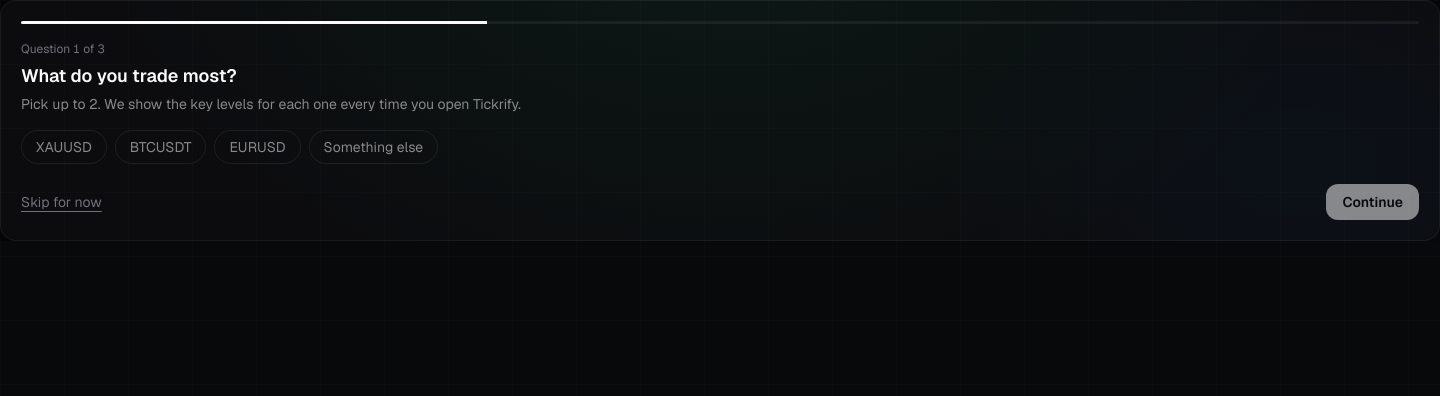
Test: quiz de conta nova › falha ao salvar: avisa, fica na pergunta e nao marca como feito
Click the button "XAUUSD".
click(64, 147)  # box [21,130,107,164]
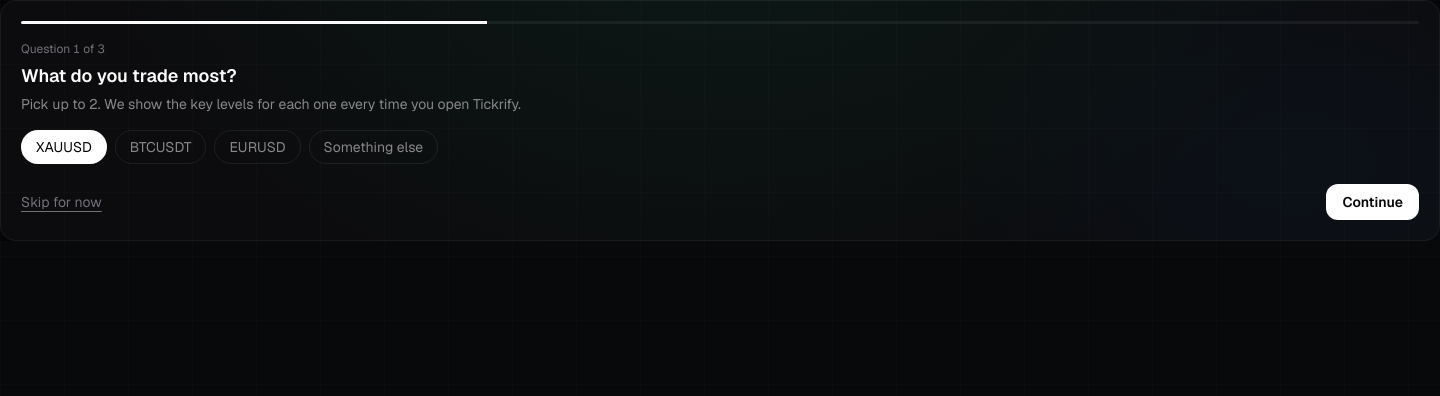
Click the button "Continue".
click(1373, 202)  # box [1326,184,1419,220]
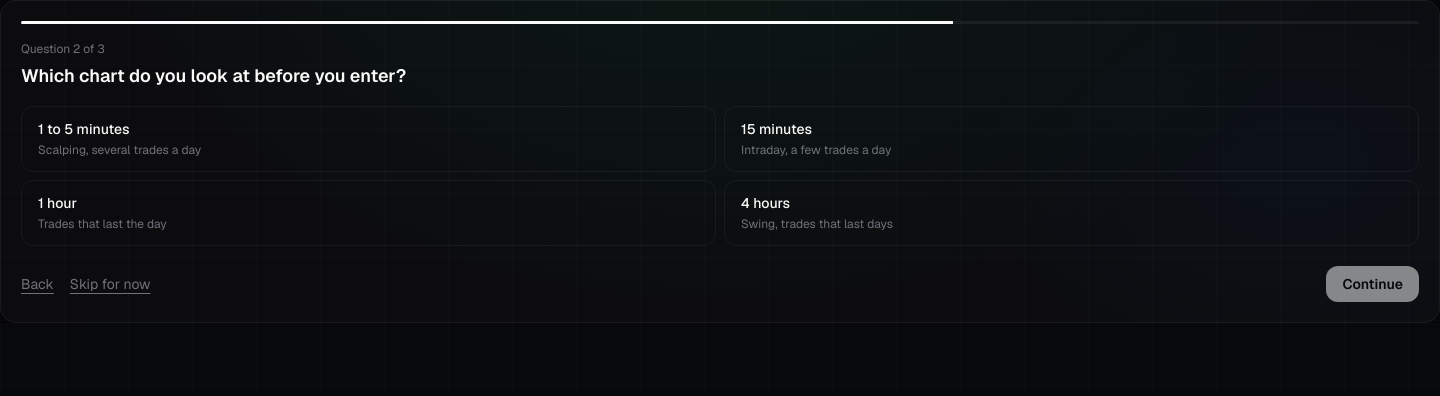
Click the radio button labelled "15 minutes Intraday, a few trades a day".
click(776, 129)  # box [724,106,1419,172]
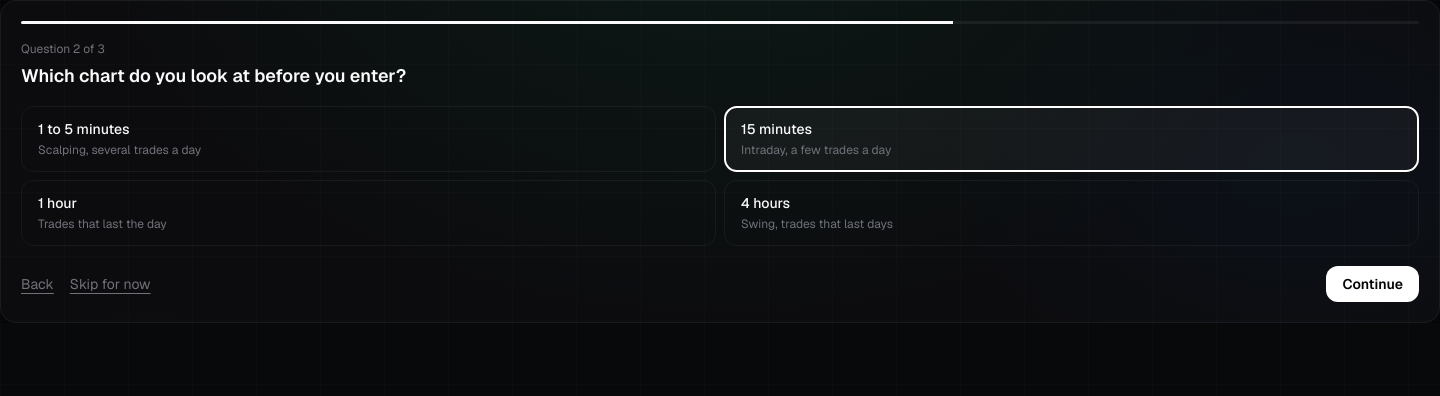
Click the button "Continue".
click(1373, 284)  # box [1326,266,1419,302]
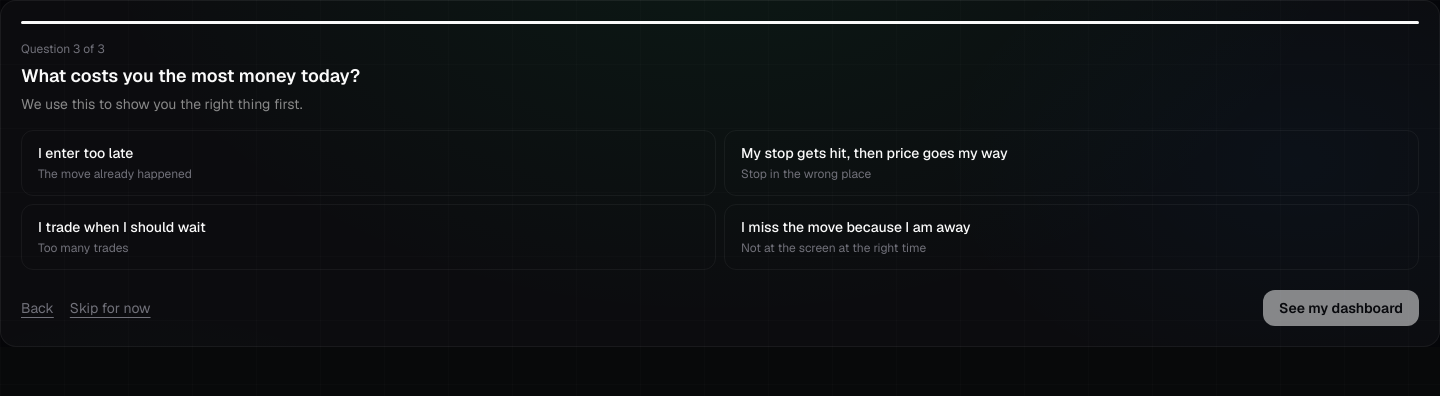
Click the radio button labelled "I enter too late The move already happened".
click(86, 153)  # box [21,130,716,196]
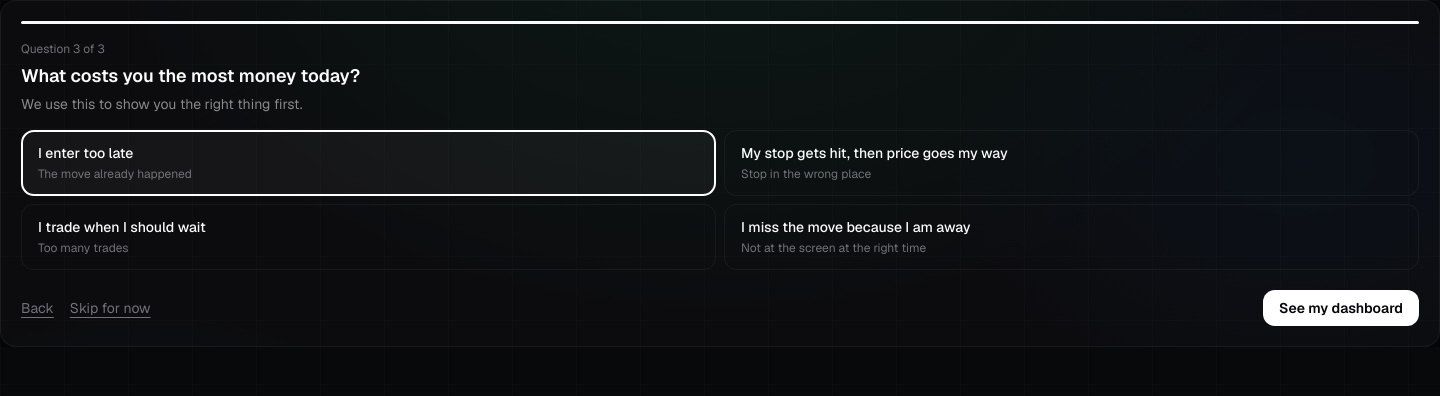
Click the button "See my dashboard".
click(1341, 308)  # box [1263,290,1419,326]
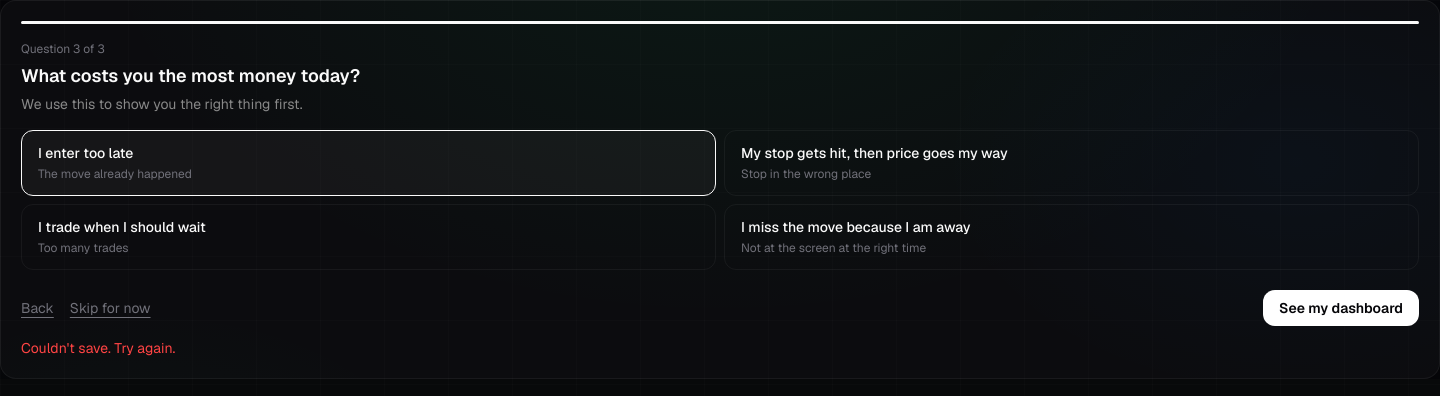
Check: the text "Question 3 of 3" is shown, box [21,41,105,57]
Check: the text "Couldn't save. Try again." is shown, box [21,339,175,357]
